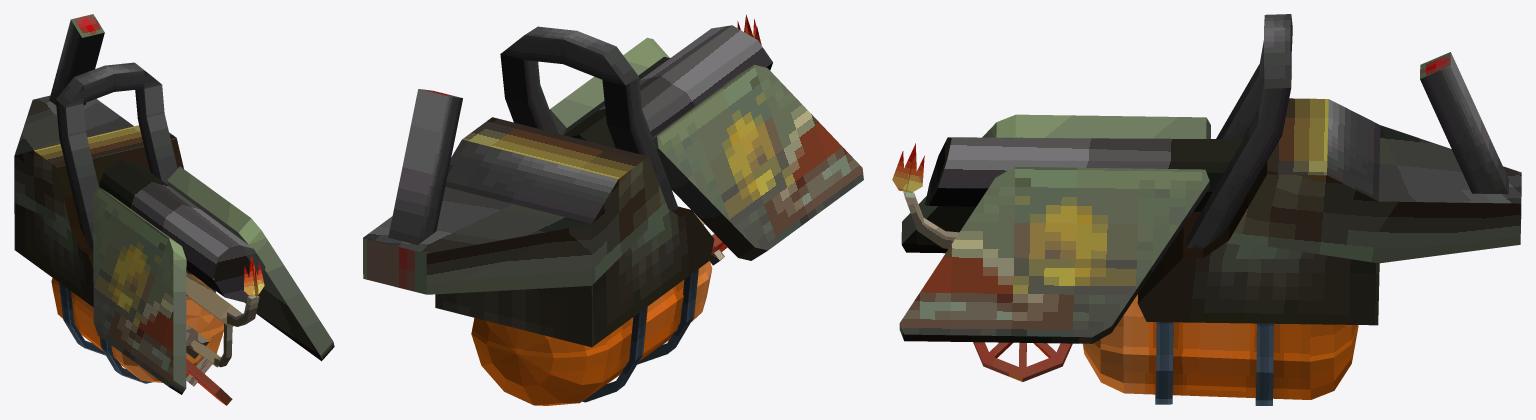
File: Flamethrower.obj
3 views of the same model, side by side, from view 1: azimuth 30°, elevation 25°; view 2: azimuth 150°, elevation 25°; view 3: azimuth 270°, elevation 25° (orthographic). The views are drawn at different scales.
Visible parts, largest first — view 1: Inst3D25_RefRep.249; view 2: Inst3D25_RefRep.249; view 3: Inst3D25_RefRep.249.
Boxes of the visible parts, x1=… form: Inst3D25_RefRep.249: x1=14, y1=14, x2=334, y2=405; Inst3D25_RefRep.249: x1=363, y1=14, x2=863, y2=405; Inst3D25_RefRep.249: x1=892, y1=14, x2=1521, y2=405.
Bounding box in the file's own units: 1.42 × 2.28 × 3.54.
